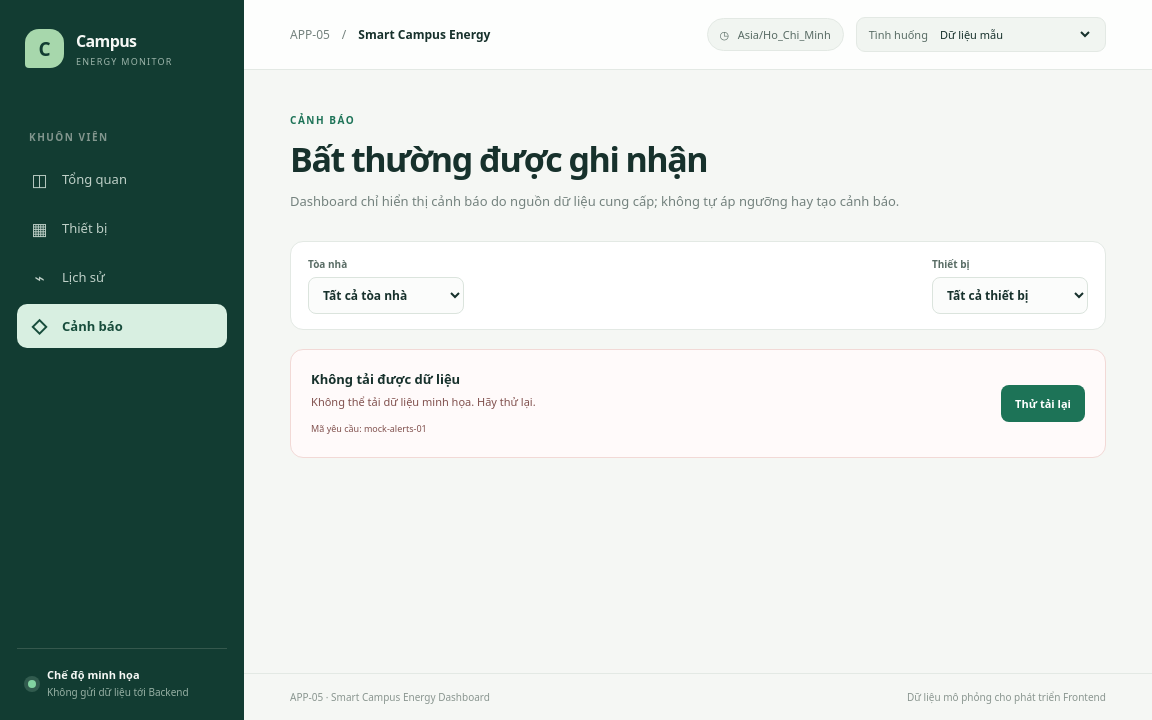
Scenario: Dashboard mock-first UI › AC-09: retries the same mock query and preserves the screen scope
Expected: the message is shown, [290,349,1106,458]
Click the button "Thử tải lại" at point(1043, 403), box [1001,385,1085,422]
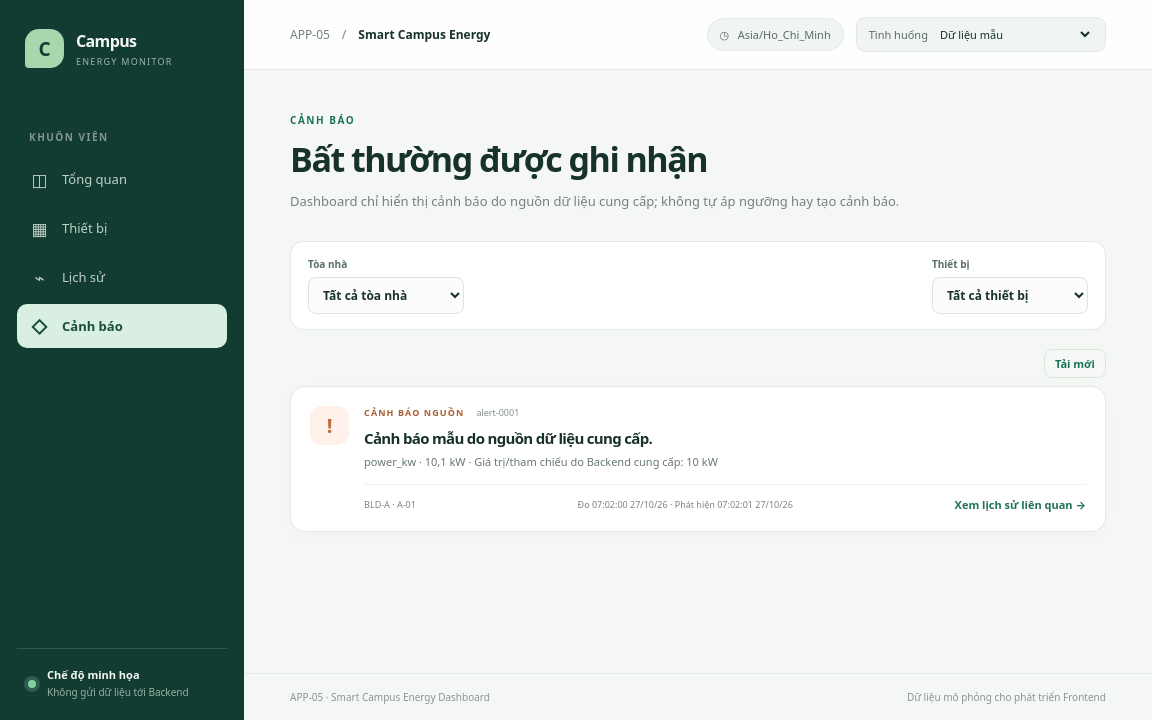
Now the element with test id "alert-alert-0001" is shown, box [290,386,1106,532]
